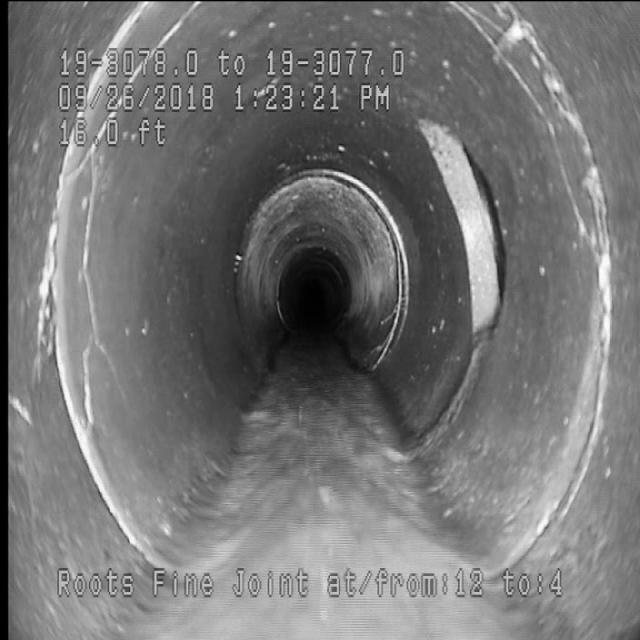Crack: (60, 166, 130, 400)
